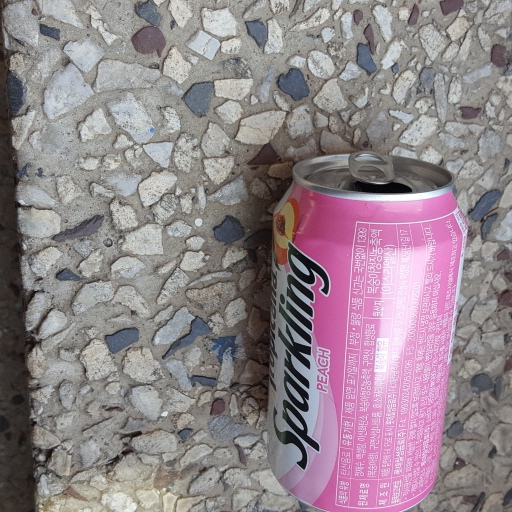Metal_0: (270, 152, 468, 510)
